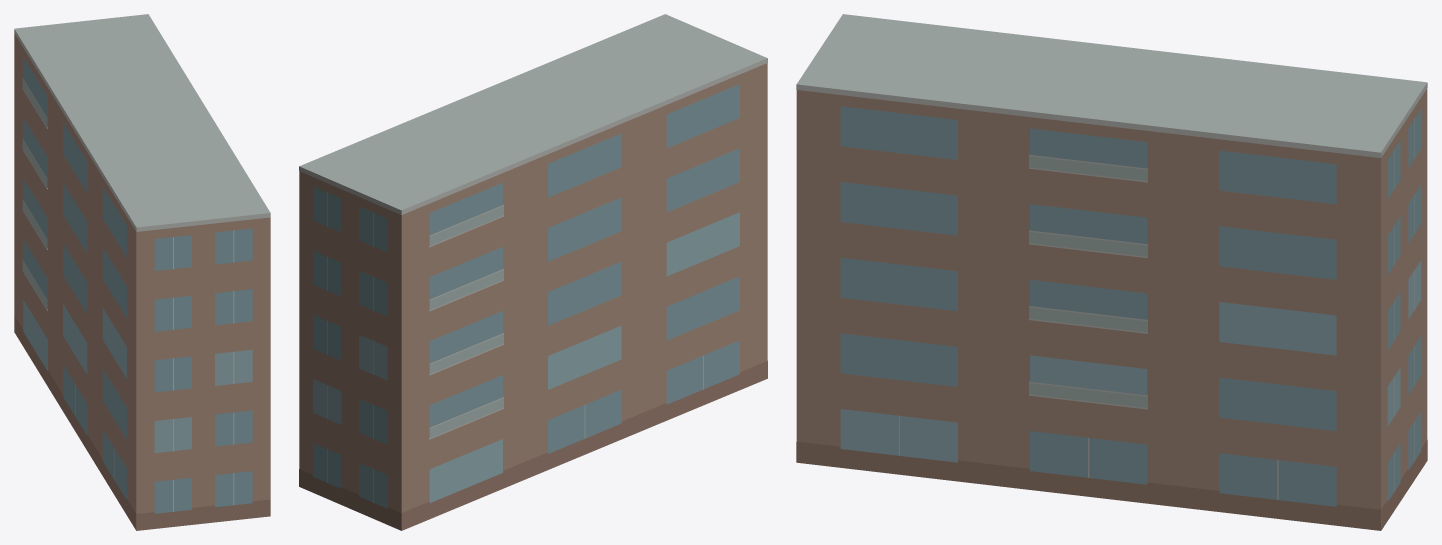
Rendered from survey-upis-32935913.glb.
3 renders of one model, left to right at view 1: azimuth 30°, elevation 25°; view 2: azimuth 150°, elevation 25°; view 3: azimuth 270°, elevation 25°, orthographic. The views are drawn at different scales.
Parts seen in each view (by area): view 1: survey-upis-32935913.tmp; view 2: survey-upis-32935913.tmp; view 3: survey-upis-32935913.tmp.
Boxes of the visible parts, x1,y1,x2,y2 form: survey-upis-32935913.tmp: (14,14,270,530); survey-upis-32935913.tmp: (299,14,767,530); survey-upis-32935913.tmp: (796,14,1427,530).
Bounding box in the file's own units: 13.22 × 16.8 × 25.41.
